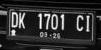0: (51, 12, 59, 32), (60, 14, 66, 32)
1: (38, 13, 43, 30)
7: (42, 12, 51, 30)
C: (76, 14, 85, 32)
D: (11, 11, 18, 28)
I: (84, 14, 90, 33)
K: (18, 12, 26, 30)
